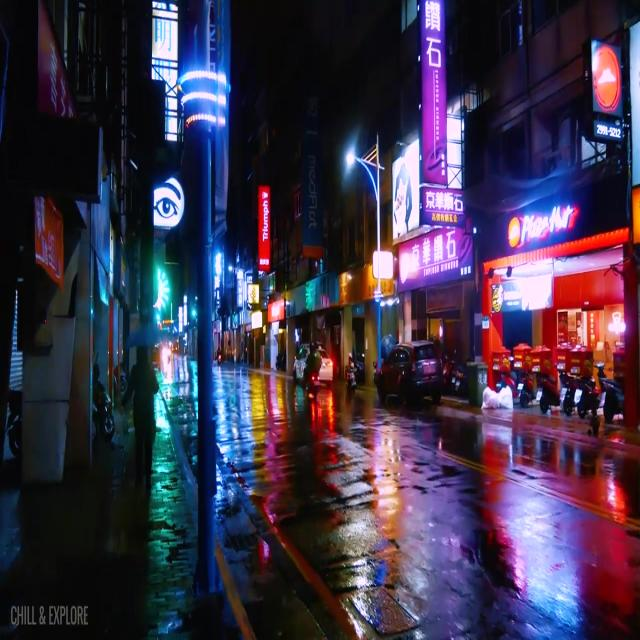Car: (372, 344, 442, 410)
